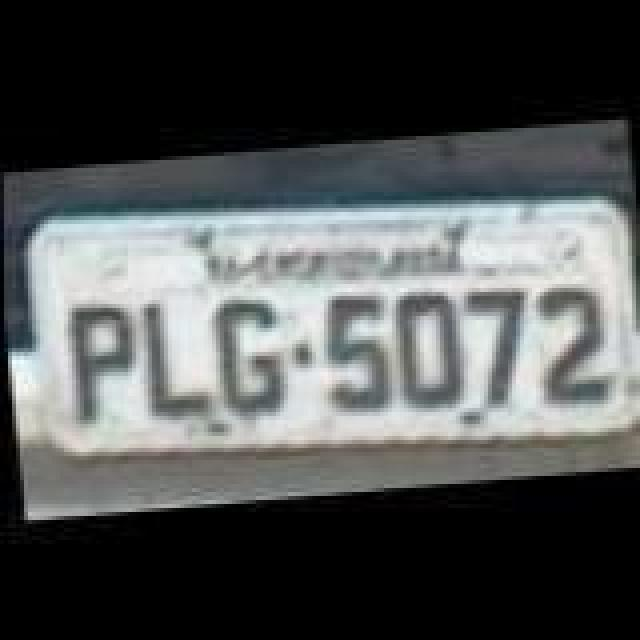2: (526, 280, 618, 408)
5: (314, 288, 398, 416)
7: (458, 282, 542, 406)
G: (202, 292, 286, 420)
L: (136, 290, 216, 422)
O: (386, 286, 470, 410)
P: (60, 296, 140, 424)
